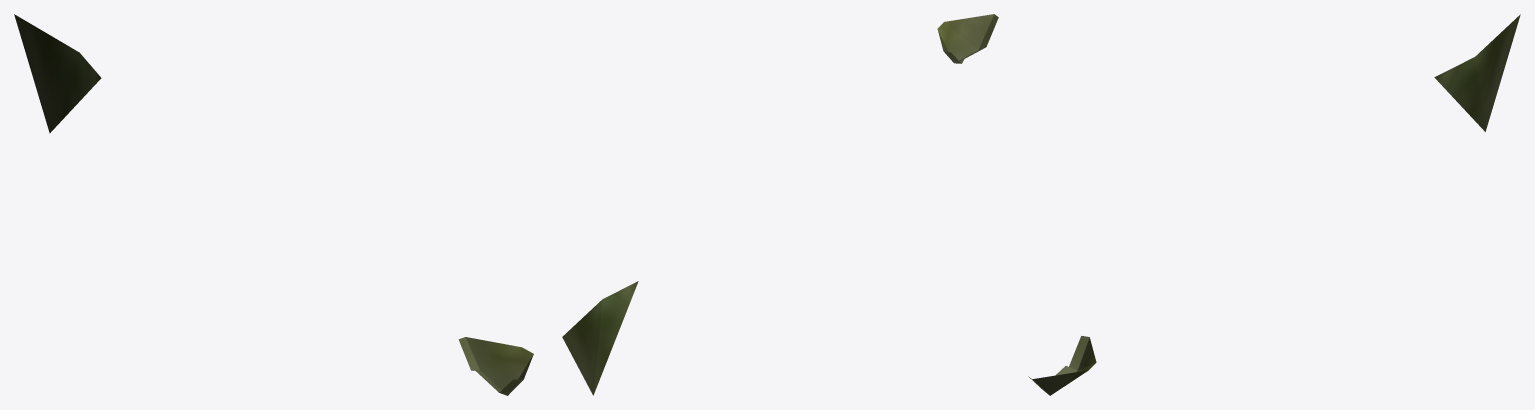
3 views of the same model, side by side, from view 1: azimuth 30°, elevation 25°; view 2: azimuth 150°, elevation 25°; view 3: azimuth 330°, elevation 25° (orthographic). The views are drawn at different scales.
Bounding box in the file's own units: 0.0752 × 0.1614 × 1.57.
Materials: 1 (1 with a texture image).
